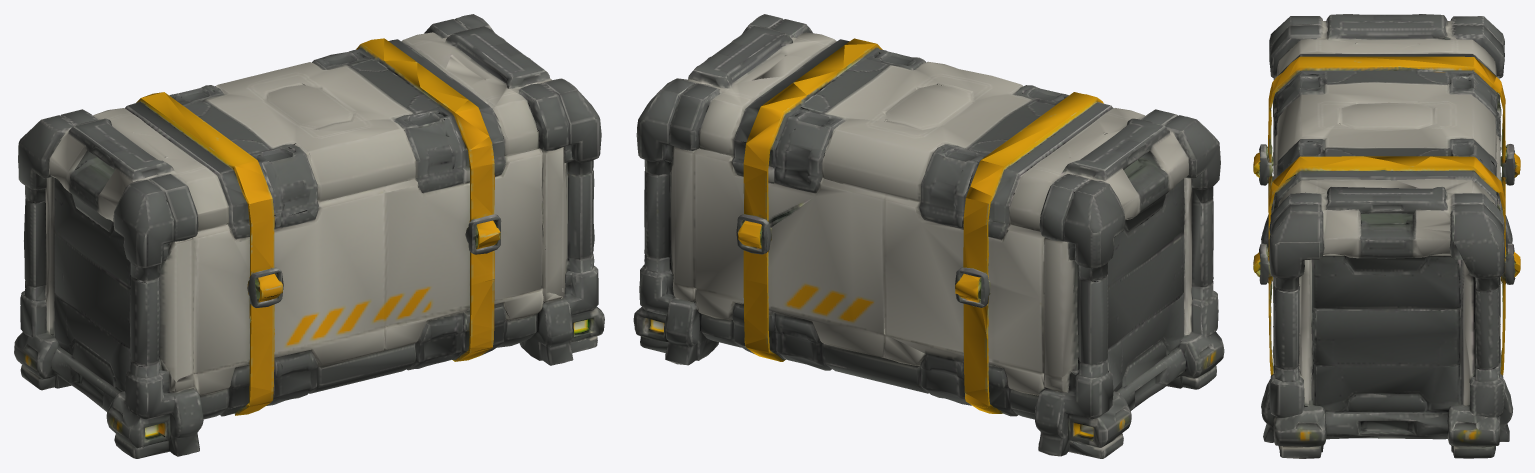
File: 03_cargo_container.fbx
3 renders of one model, left to right at view 1: azimuth 30°, elevation 25°; view 2: azimuth 150°, elevation 25°; view 3: azimuth 270°, elevation 25°, orthographic. The views are drawn at different scales.
Parts seen in each view (by area): view 1: 03_cargo_container; view 2: 03_cargo_container; view 3: 03_cargo_container.
Part boxes in pixels (x1,y1,x2,y2): 03_cargo_container: (14,14,604,458); 03_cargo_container: (633,14,1224,458); 03_cargo_container: (1253,14,1520,458).
Size of the model in its own units: 4 by 2.13 by 2.1.
1 material, 1 textured.
